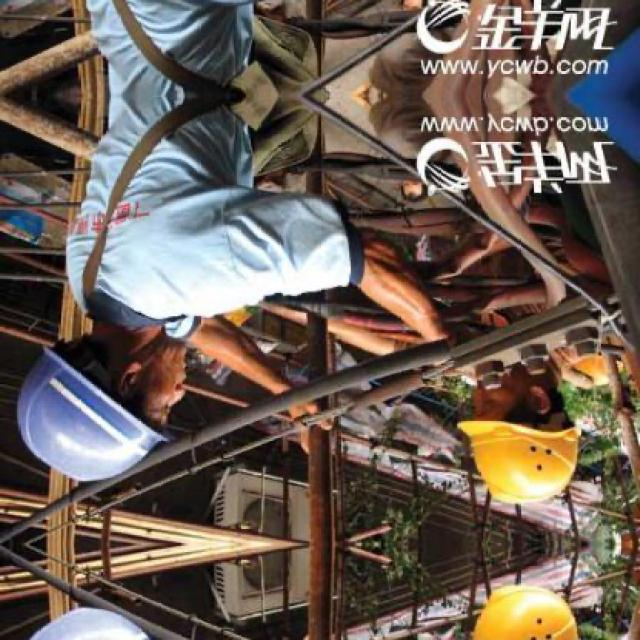con casco: (426, 331, 627, 522), (0, 326, 205, 483)
